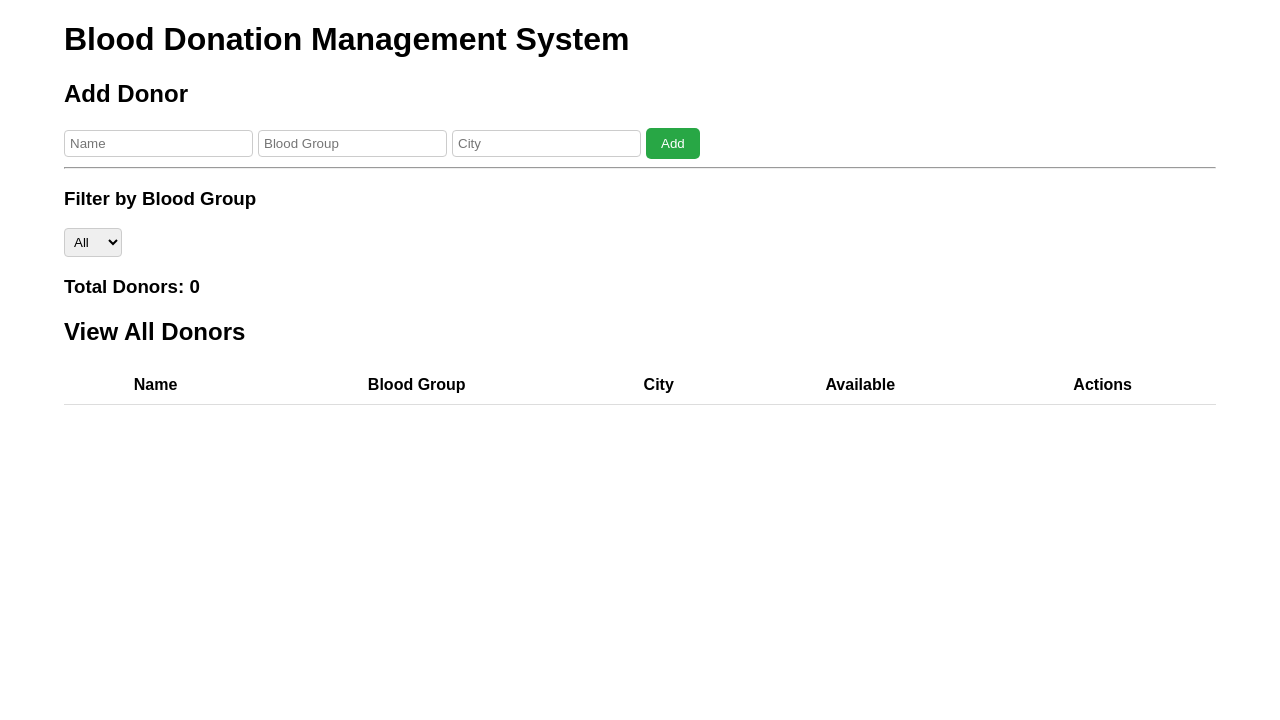
Test: DonorList › adds a donor and reloads list
Type "Chris Pine" into the field with placeholder "Name" at point(158, 143), box [64,130,253,157]
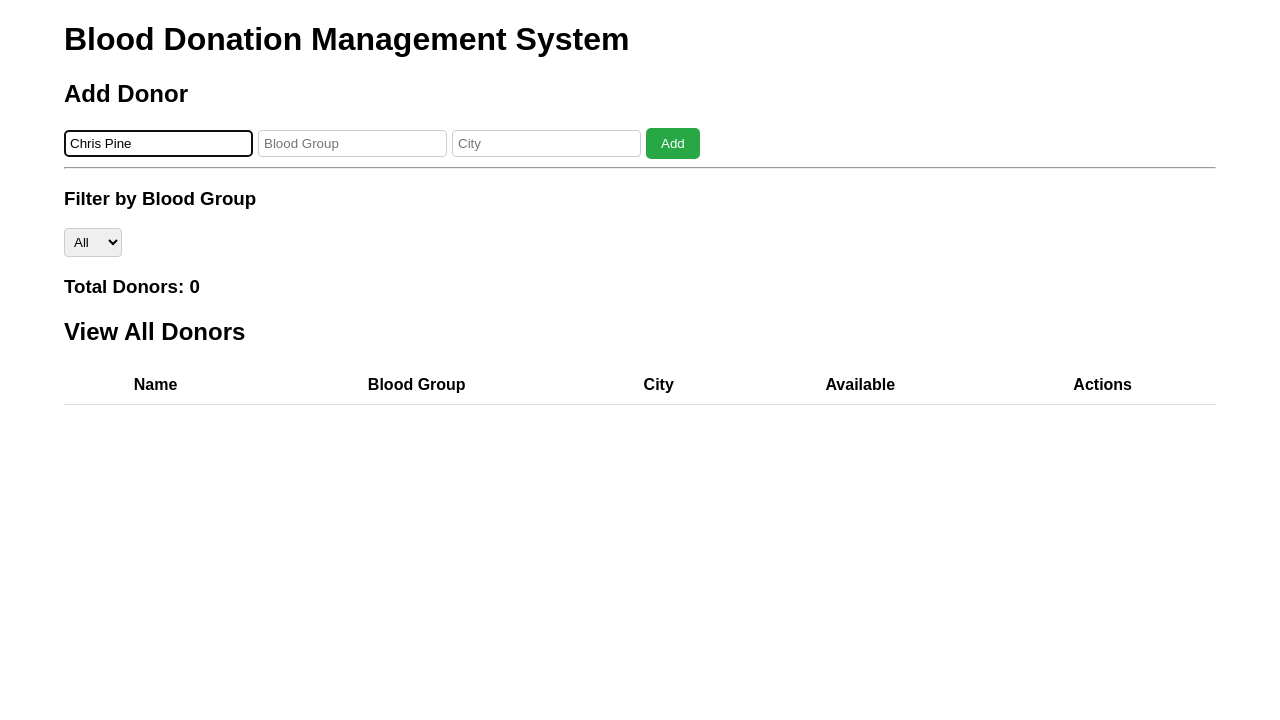
Type "O+" into the field with placeholder "Blood Group" at point(352, 143), box [258,130,447,157]
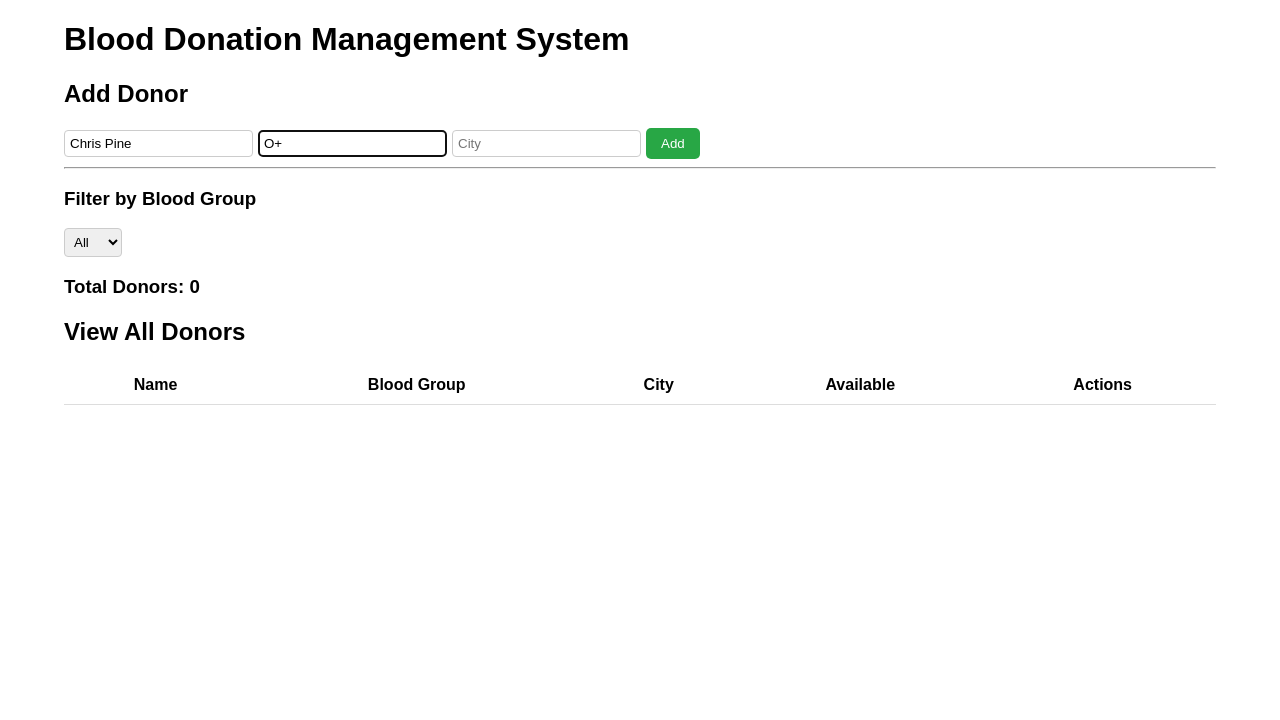
Type "SF" into the field with placeholder "City" at point(546, 143), box [452,130,641,157]
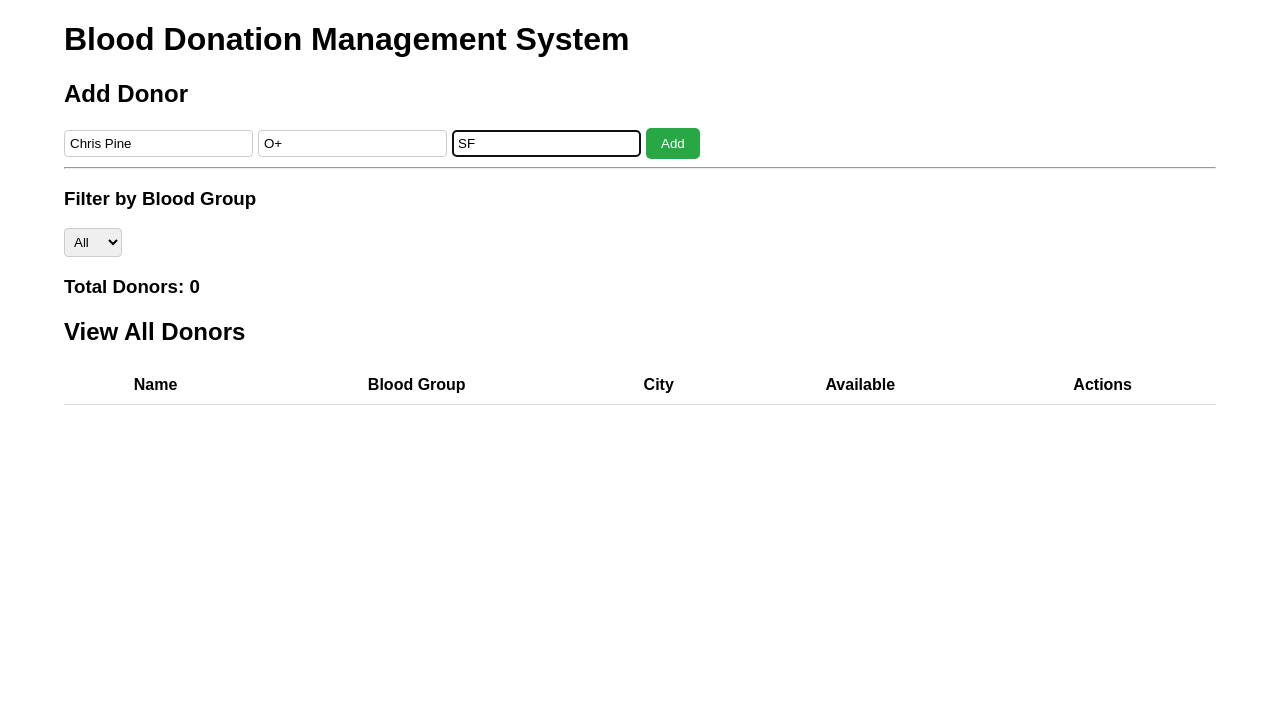
Click the button "Add" at point(673, 143), box [646,128,700,159]
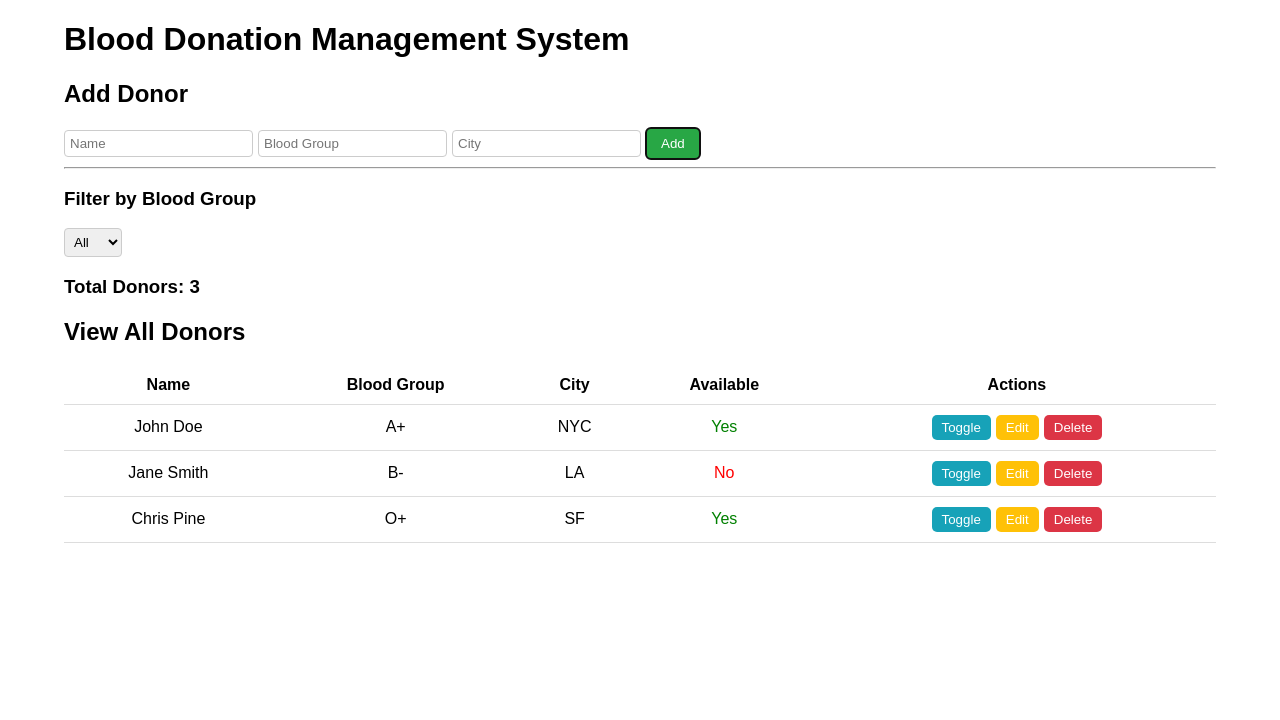
Check: the text "Chris Pine" is shown, box [64,496,273,542]
